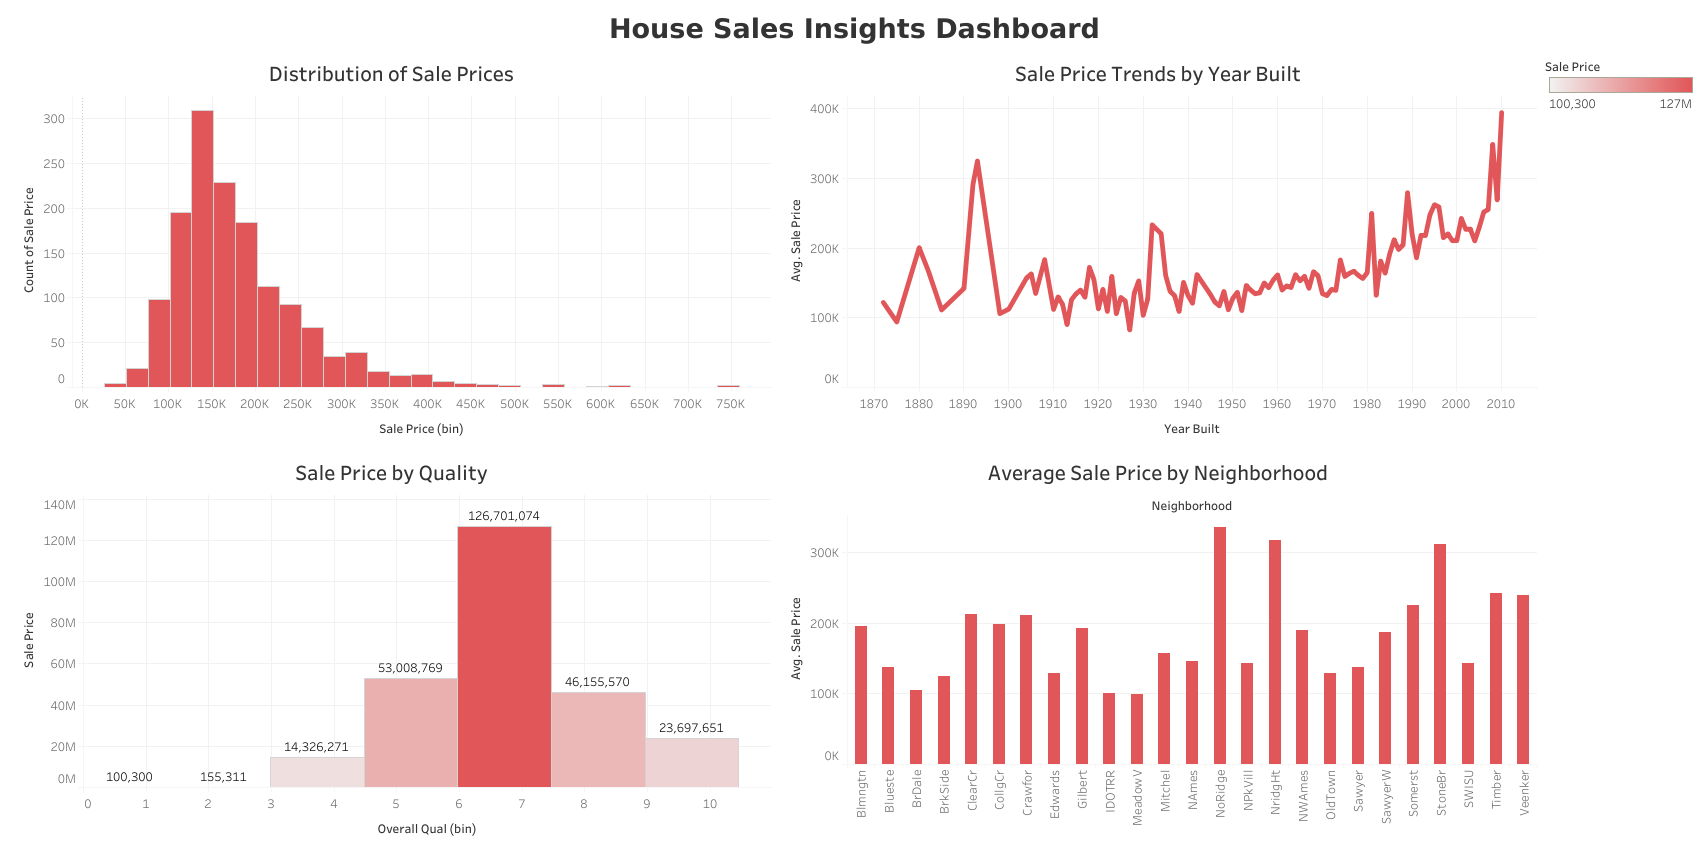

Layout of this report page (visuals, bound fields, positions):
{"tool":"tableau","page":{"name":"House Sales Insights Dashboard","canvas":[1709,856],"ordinal":0},"visuals":[{"type":"title","box":[8,8,1693,44]},{"type":"worksheet","title":"Distribution of Sale Prices","mark":"Automatic","rows":["SalePrice"],"cols":["Sale Price (bin)"],"box":[8,52,766.5,397.9]},{"type":"worksheet","title":"Sale Price Trends by Year Built","mark":"Automatic","rows":["SalePrice"],"cols":["YearBuilt"],"box":[774.5,52,766.5,397.9]},{"type":"legend","title":"Sale Price by Quality","param":"[federated.0zv0pih0jap0eo15shx6y16ldjqx].[sum:SalePrice:qk]","box":[1541,52,160,65]},{"type":"worksheet","title":"Sale Price by Quality","mark":"Automatic","rows":["SalePrice"],"cols":["Overall Qual (bin)"],"box":[8,449.9,766.5,398.1]},{"type":"worksheet","title":"Average Sale Price by Neighborhood","mark":"Automatic","rows":["SalePrice"],"cols":["Neighborhood"],"box":[774.5,449.9,766.5,398.1]}]}

Visuals, with their boxes in screenshot pixels (x1, y1, x2, y2), scaled from the page's 1709x856 canvas onto the 1708x855 screenshot:
title: BBox(8, 8, 1700, 52)
"Distribution of Sale Prices" worksheet: BBox(8, 52, 774, 449)
"Sale Price Trends by Year Built" worksheet: BBox(774, 52, 1540, 449)
"Sale Price by Quality" legend: BBox(1540, 52, 1700, 117)
"Sale Price by Quality" worksheet: BBox(8, 449, 774, 847)
"Average Sale Price by Neighborhood" worksheet: BBox(774, 449, 1540, 847)
